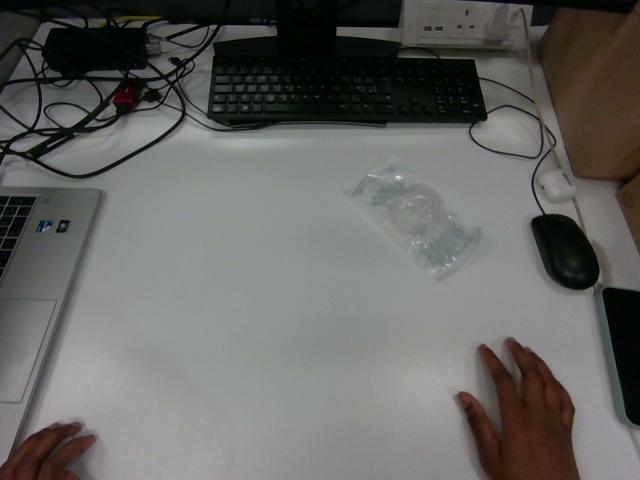gallipot: (347, 161, 480, 281)
